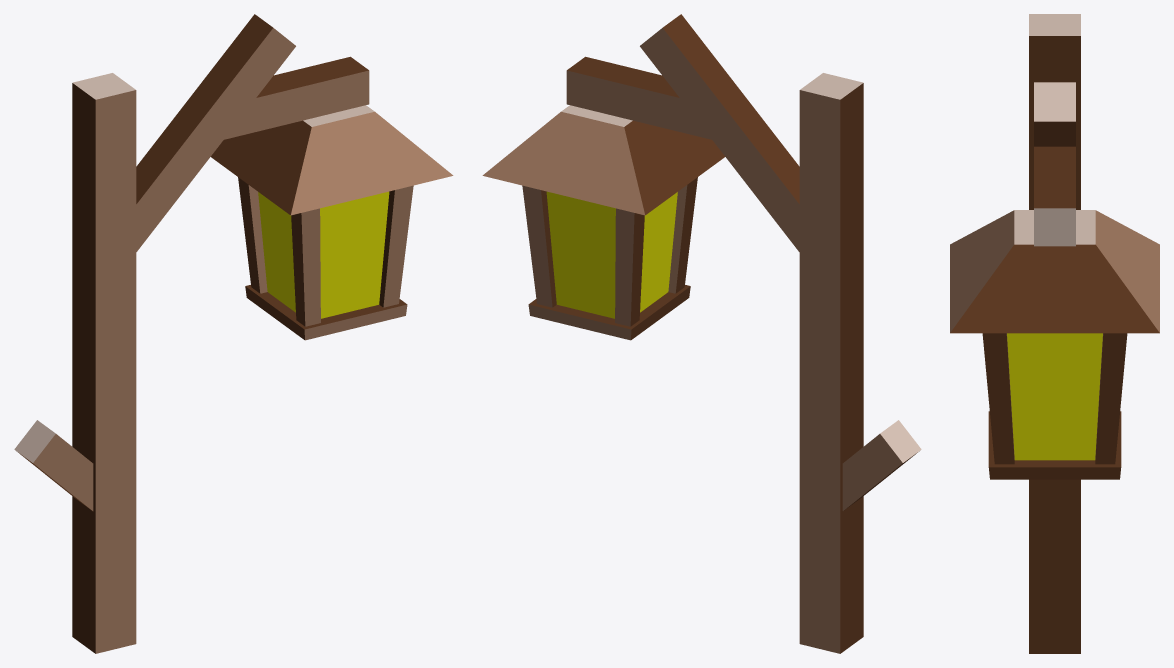
The model's file is streetLight.fbx.
3 views of the same model, side by side, from view 1: azimuth 30°, elevation 25°; view 2: azimuth 150°, elevation 25°; view 3: azimuth 270°, elevation 25° (orthographic). The views are drawn at different scales.
Parts seen in each view (by area): view 1: iceTree_branch3, pCube1, iceTree_branch1, pCube2, iceTree_branch4, iceTree_branch2, iceTree_branch9, iceTree_branch12, iceTree_branch8, iceTree_branch10; view 2: iceTree_branch3, pCube1, iceTree_branch1, pCube2, iceTree_branch4, iceTree_branch2, iceTree_branch10, iceTree_branch12, iceTree_branch11, iceTree_branch9; view 3: pCube1, iceTree_branch3, pCube2, iceTree_branch4, iceTree_branch8, iceTree_branch11, iceTree_branch12, iceTree_branch1.
Boxes of the visible parts, x1=… form: iceTree_branch3: x1=72, y1=73, x2=136, y2=653; pCube1: x1=211, y1=105, x2=453, y2=215; iceTree_branch1: x1=136, y1=14, x2=295, y2=251; pCube2: x1=258, y1=191, x2=389, y2=318; iceTree_branch4: x1=224, y1=56, x2=369, y2=139; iceTree_branch2: x1=14, y1=420, x2=93, y2=511; iceTree_branch9: x1=291, y1=208, x2=320, y2=326; iceTree_branch12: x1=245, y1=285, x2=407, y2=340; iceTree_branch8: x1=379, y1=185, x2=413, y2=307; iceTree_branch10: x1=238, y1=177, x2=267, y2=293; iceTree_branch3: x1=799, y1=73, x2=863, y2=653; pCube1: x1=482, y1=105, x2=724, y2=215; iceTree_branch1: x1=640, y1=14, x2=799, y2=251; pCube2: x1=546, y1=191, x2=677, y2=318; iceTree_branch4: x1=566, y1=56, x2=711, y2=139; iceTree_branch2: x1=842, y1=420, x2=921, y2=511; iceTree_branch10: x1=615, y1=208, x2=644, y2=326; iceTree_branch12: x1=528, y1=285, x2=690, y2=340; iceTree_branch11: x1=522, y1=185, x2=556, y2=307; iceTree_branch9: x1=668, y1=177, x2=697, y2=293; pCube1: x1=950, y1=210, x2=1159, y2=333; iceTree_branch3: x1=1029, y1=14, x2=1080, y2=653; pCube2: x1=1007, y1=333, x2=1102, y2=460; iceTree_branch4: x1=1034, y1=146, x2=1075, y2=246; iceTree_branch8: x1=982, y1=333, x2=1014, y2=464; iceTree_branch11: x1=1095, y1=333, x2=1127, y2=464; iceTree_branch12: x1=988, y1=411, x2=1121, y2=479; iceTree_branch1: x1=1034, y1=82, x2=1075, y2=146.
Bounding box in the file's own units: 113 × 164 × 48.29.
Materials: 2 (1 with a texture image).
